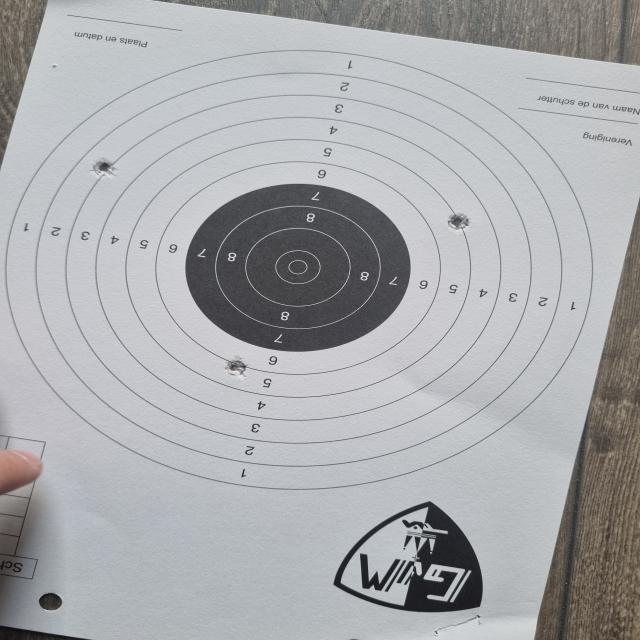4: (92, 159, 116, 178)
6: (444, 210, 470, 232)
7: (224, 358, 248, 378)
Black Contour: (186, 183, 412, 352)
Target: (6, 49, 594, 490)
